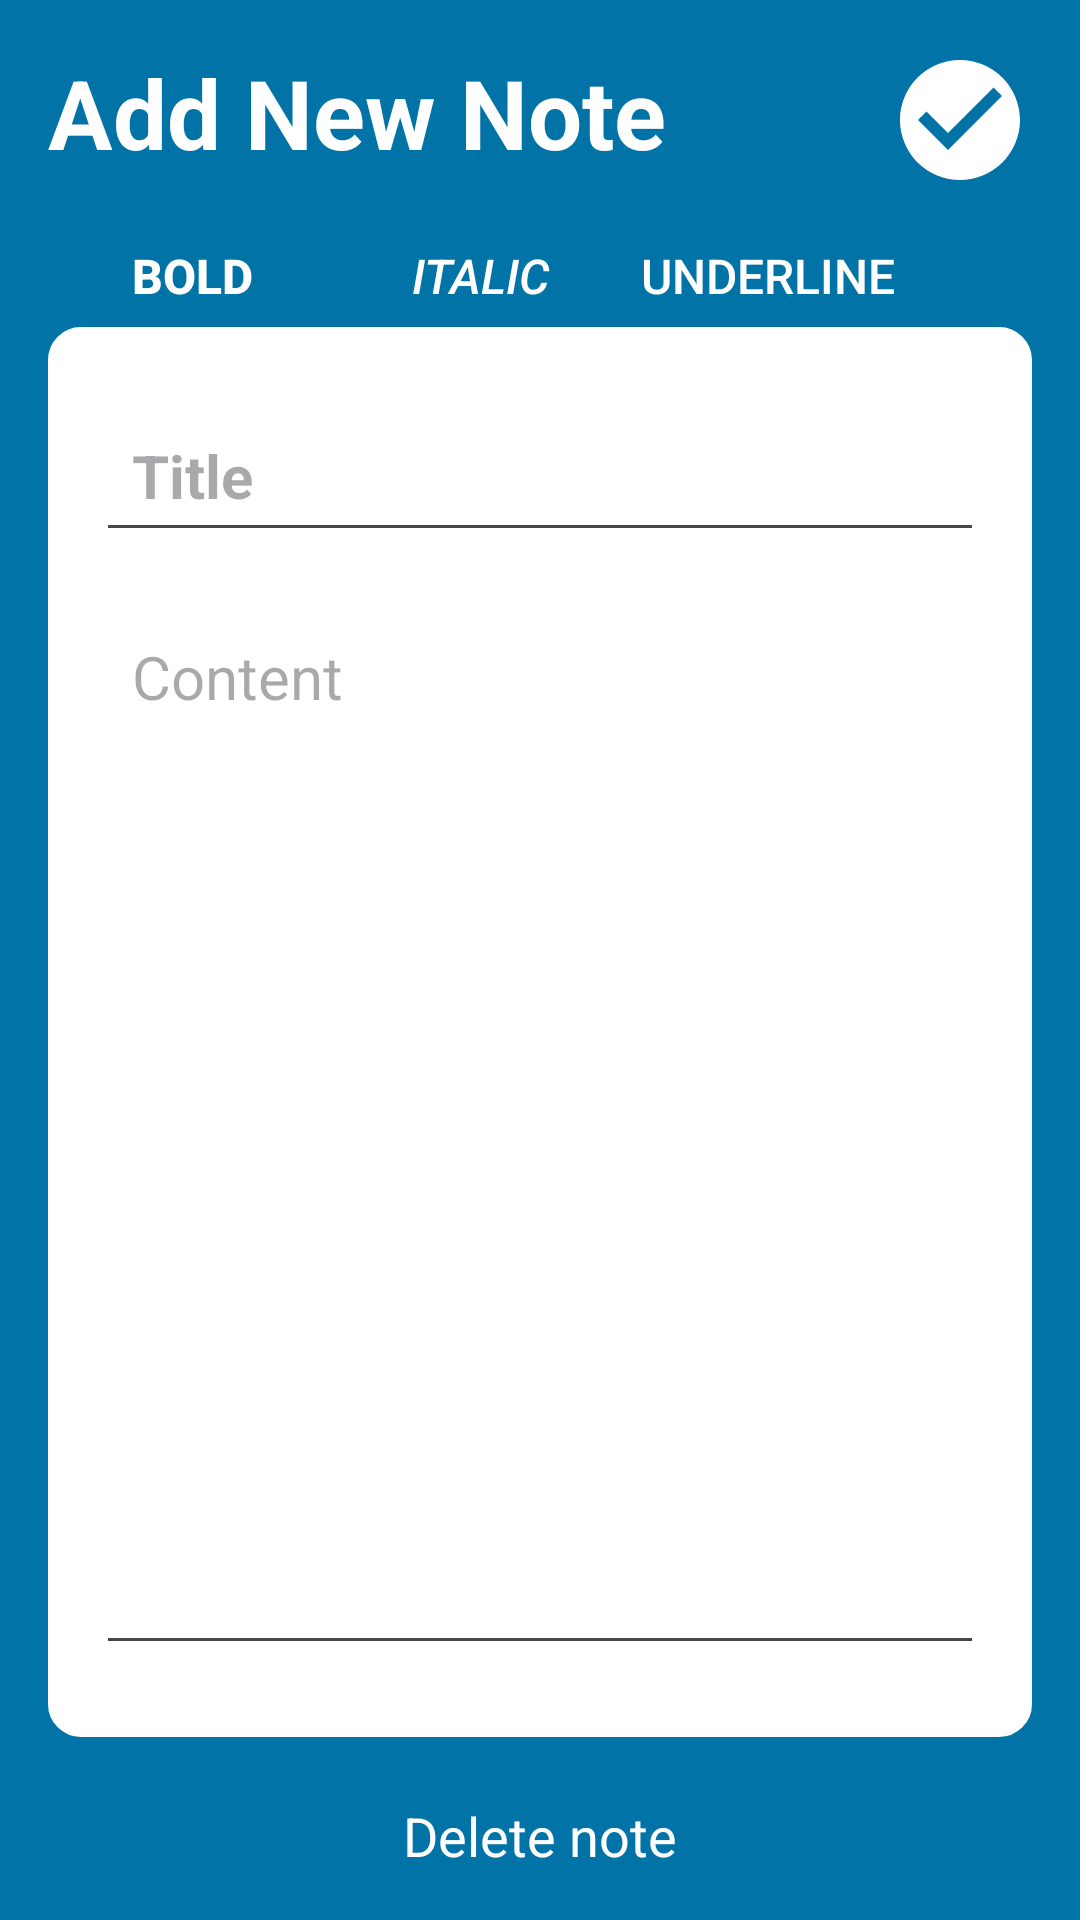

Where icons sit on this 1080w x 1920h app screen, as bbox=[x1, y1, x2, y2]:
done: bbox=[900, 60, 1020, 180]
